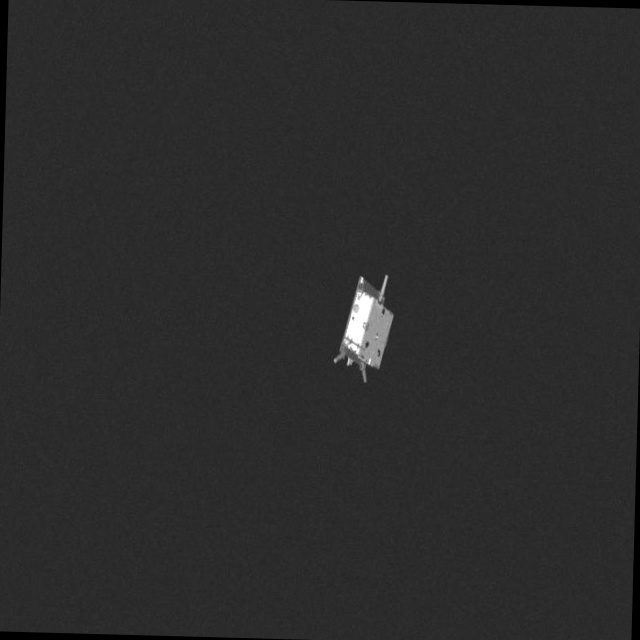medium_debris: (332, 260, 406, 388)
